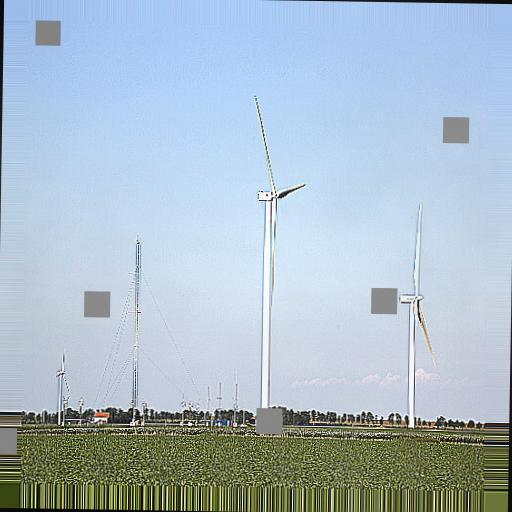wind turbine: (250, 96, 308, 408), (398, 202, 438, 427)
